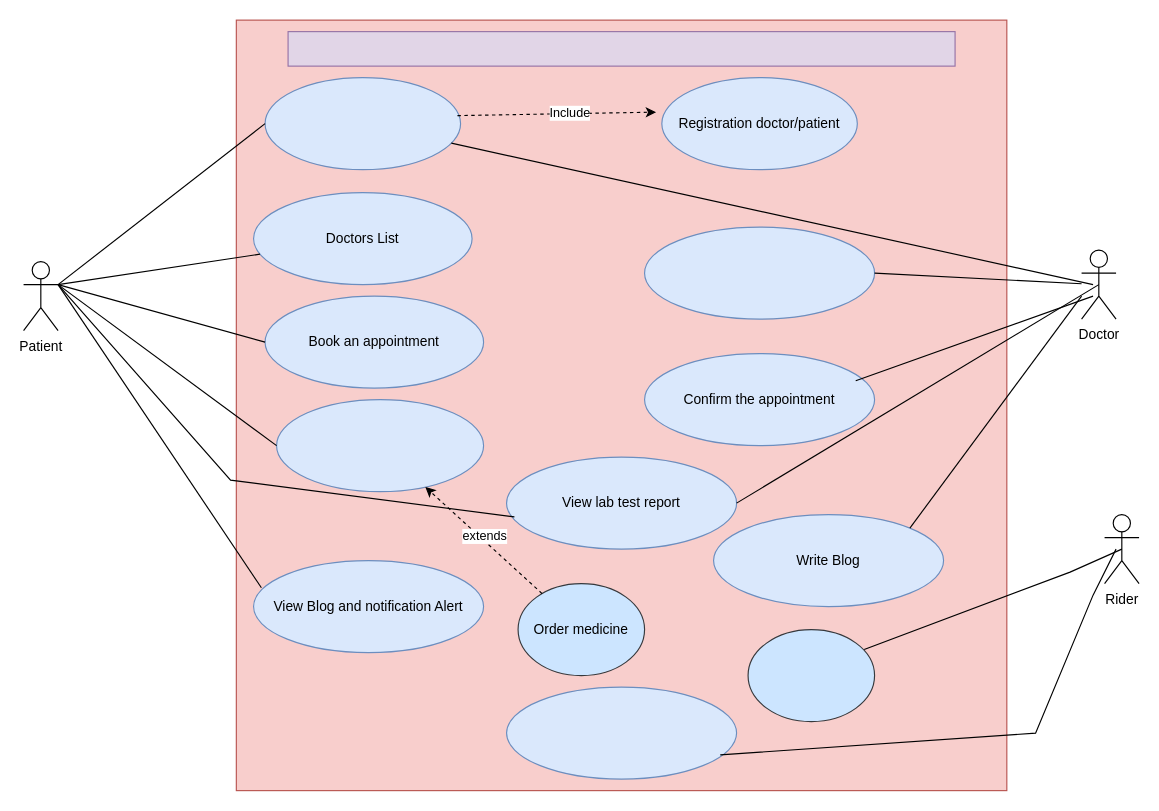
This 1159x811 diagram has some shape labels left out. Each missing label, with the centre of its shape:
Delivery Medicine: [811,675]
Login: [362,123]
Medilink:Seamless Doctor-Patient connection and care: [621,48]
Update / View patient report: [759,272]
View and Download Prescription: [379,445]
View Patient Information: [621,732]
